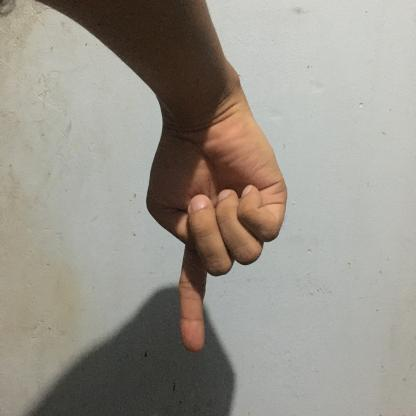here: (119, 60, 298, 356)
